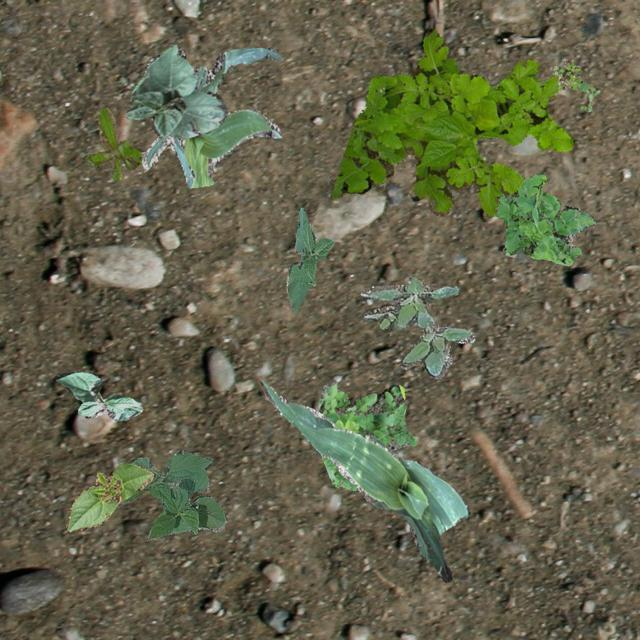crop: (259, 379, 469, 582), (140, 46, 282, 188), (124, 44, 226, 140), (118, 449, 224, 538), (64, 462, 152, 530), (286, 206, 332, 312), (54, 370, 142, 420)
weed: (331, 28, 571, 216), (359, 274, 474, 378), (318, 380, 416, 490), (494, 172, 596, 264), (84, 106, 140, 180), (552, 58, 598, 110)
